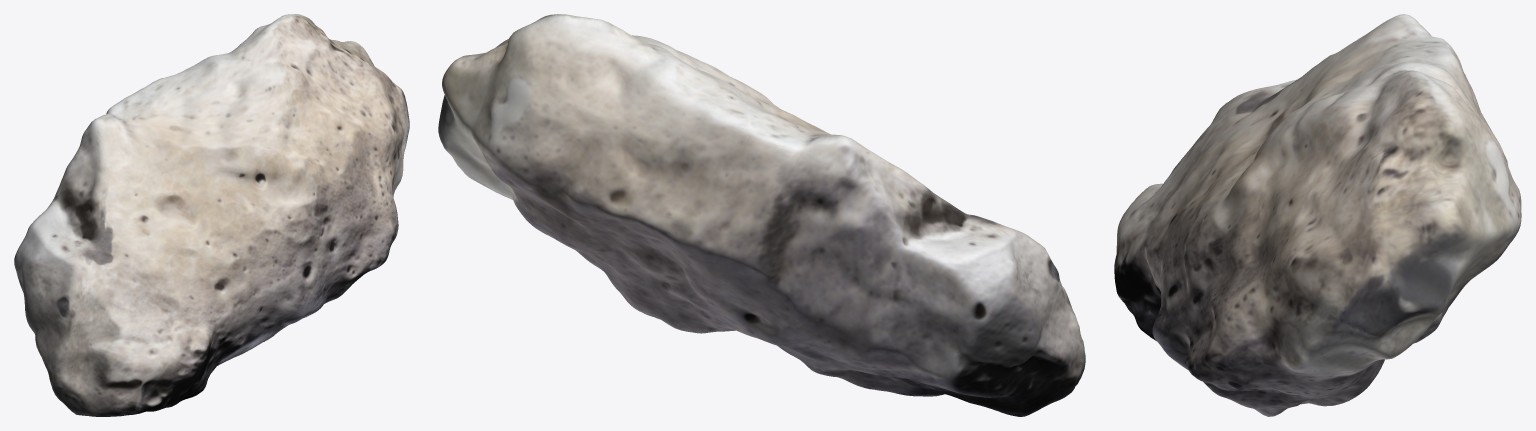
The model's file is Nereus.gltf.
3 views of the same model, side by side, from view 1: azimuth 30°, elevation 25°; view 2: azimuth 150°, elevation 25°; view 3: azimuth 270°, elevation 25° (orthographic). The views are drawn at different scales.
Parts seen in each view (by area): view 1: Nereus; view 2: Nereus; view 3: Nereus.
Boxes of the visible parts, box(x1,y1,x2,y2) form: Nereus: box(14, 14, 409, 416); Nereus: box(438, 14, 1085, 416); Nereus: box(1114, 14, 1521, 416).
Bounding box in the file's own units: 2 × 1.31 × 1.18.
1 material, 1 textured.
